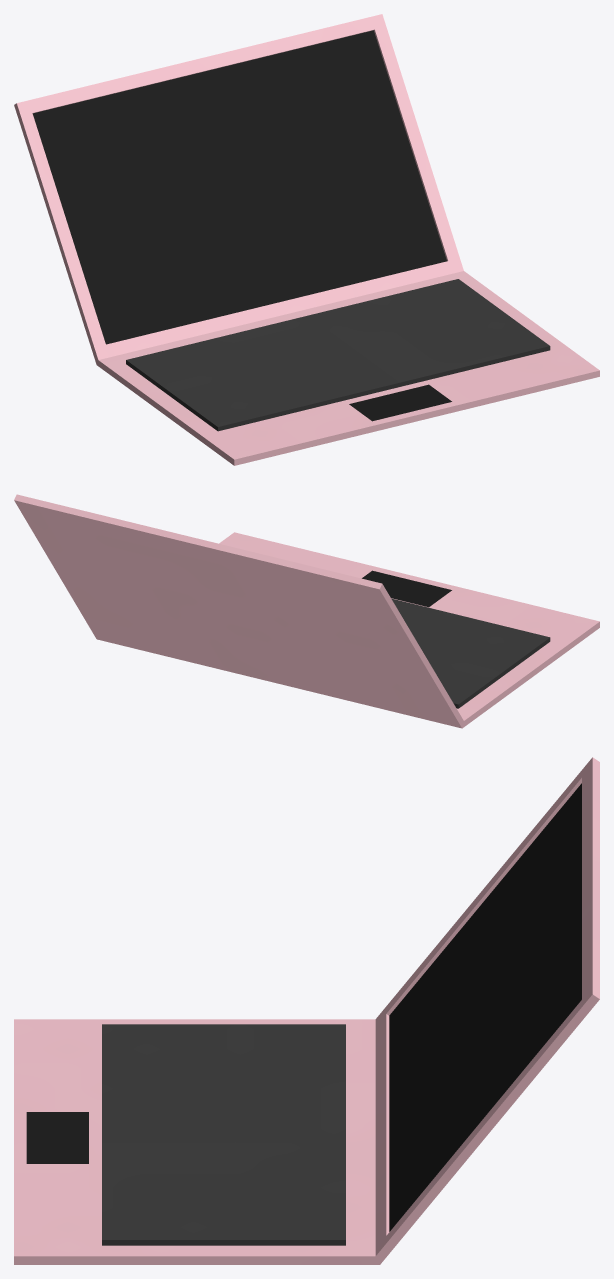
Rendered from Laptop_04.fbx.
3 views of the same model, one above another, from view 1: azimuth 30°, elevation 25°; view 2: azimuth 150°, elevation 25°; view 3: azimuth 270°, elevation 25° (orthographic). The views are drawn at different scales.
Parts seen in each view (by area): view 1: Laptop_04; view 2: Laptop_04; view 3: Laptop_04.
Boxes of the visible parts, box(x1,y1,x2,y2) form: Laptop_04: box(14, 14, 599, 465); Laptop_04: box(14, 494, 599, 728); Laptop_04: box(14, 757, 599, 1264).
Bounding box in the file's own units: 0.6087 × 0.3237 × 0.6355.
